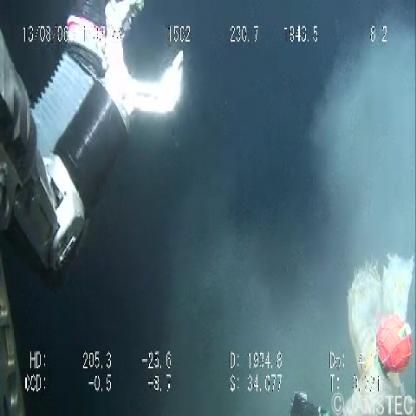Rov: (1, 3, 198, 416)
Rác: (330, 243, 416, 416)
